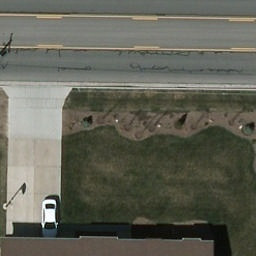car: (42, 198, 60, 235)
